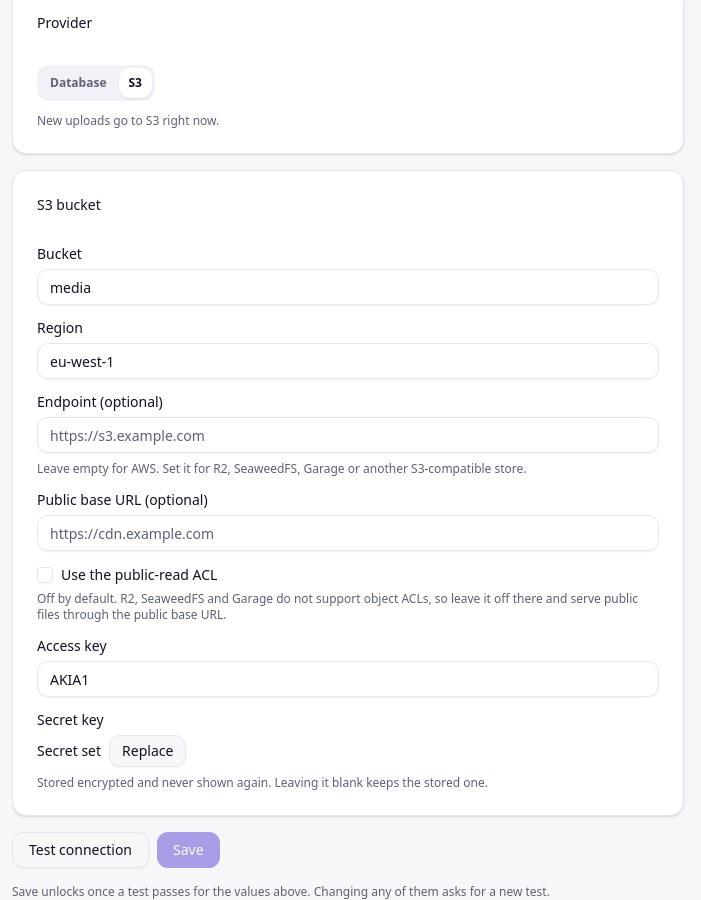
Test: the storage settings screen › keeps Save disabled until a test passes for the values on the form, and clears the pass on an edit
The width and height of the screenshot is (701, 900).
(page scrolled)
Expected: the button "Save" is disabled, [157,832,220,868]
Step 1. Click the button "Test connection" → {"x": 80, "y": 850}, box [12,832,149,868]
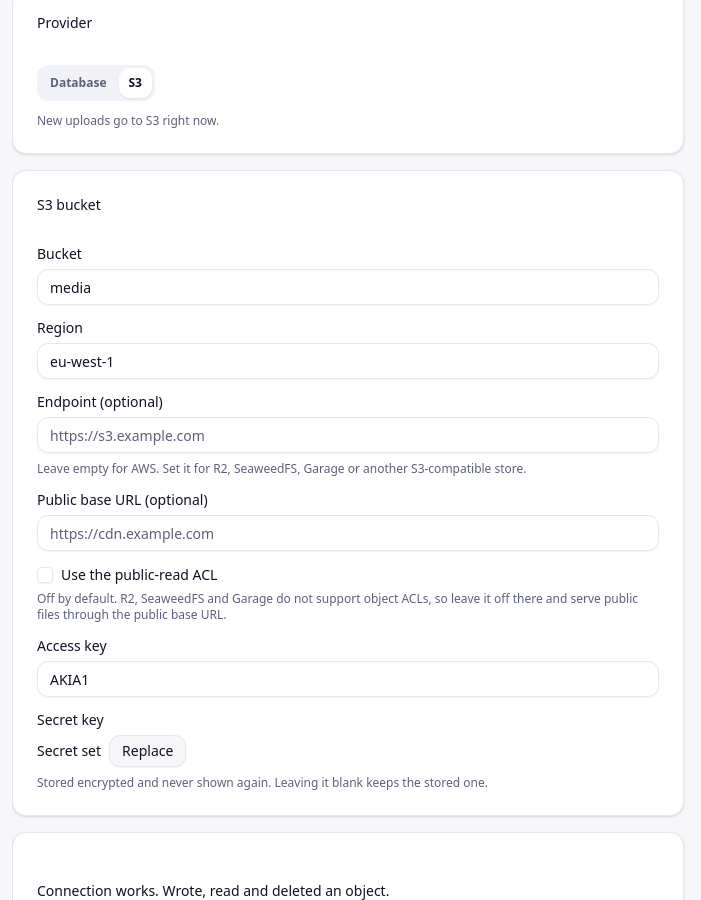
Step 2. Type "x" into the field labelled "Bucket" → {"x": 348, "y": 287}, box [37,269,659,305]
(page scrolled)
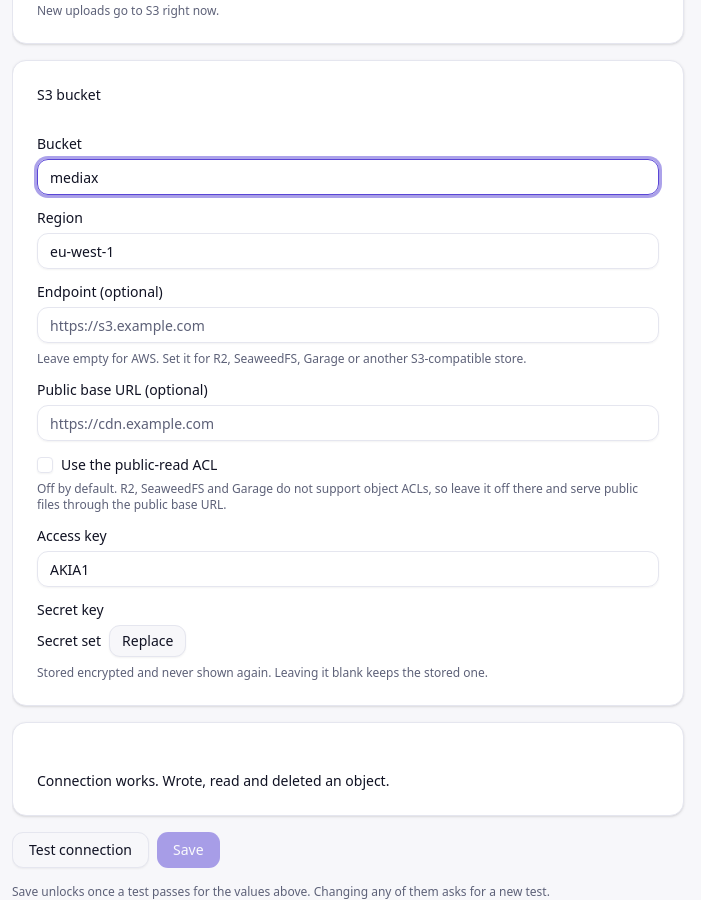
Now the button "Save" is disabled, box [157,832,220,868]
